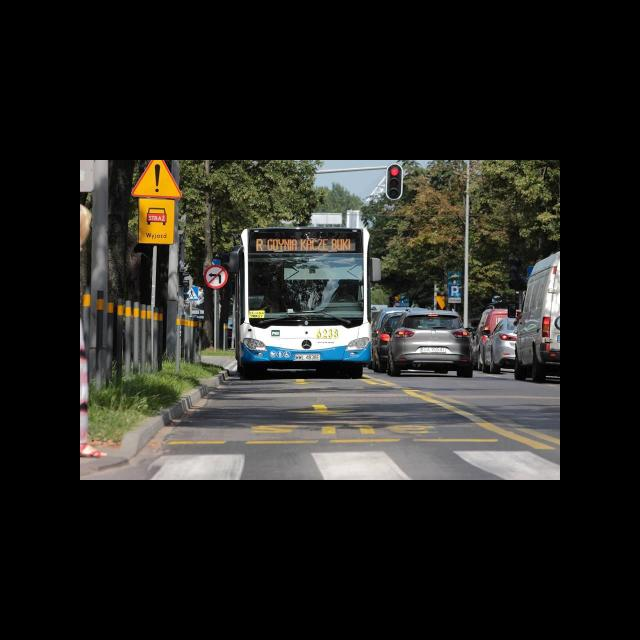Bus: (228, 226, 374, 378)
Car: (387, 310, 473, 377)
